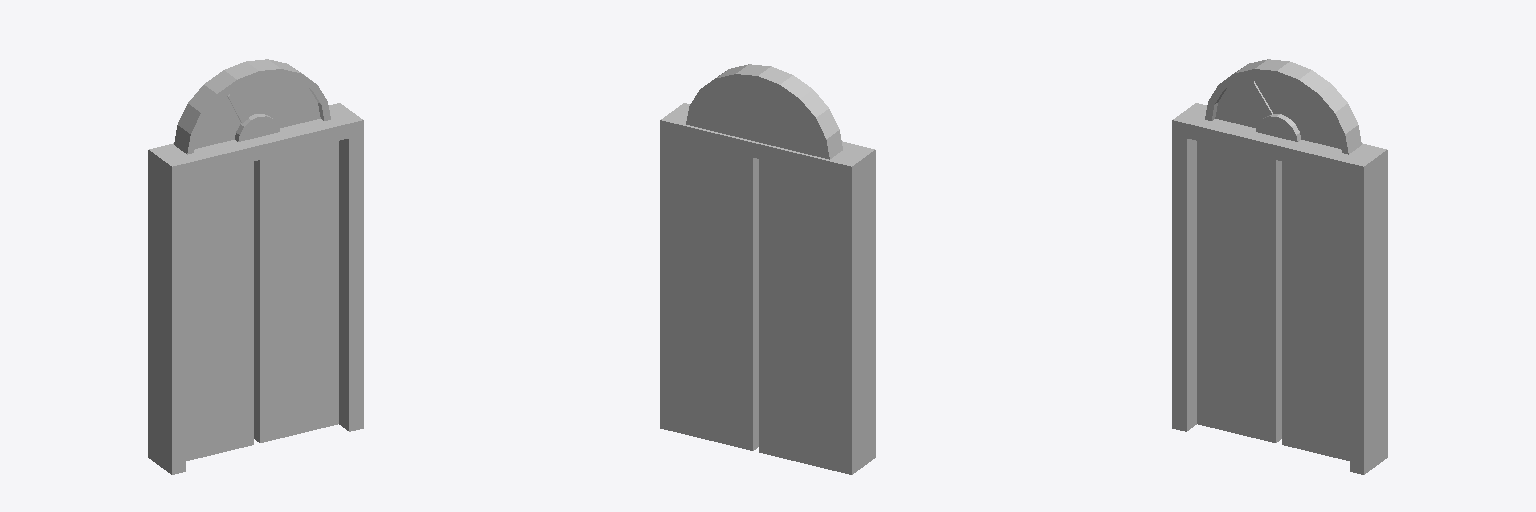
File: doorElevator.obj
3 renders of one model, left to right at view 1: azimuth 30°, elevation 25°; view 2: azimuth 150°, elevation 25°; view 3: azimuth 330°, elevation 25°, orthographic.
Visible parts, largest first — view 1: elevatorDoor pCube2, elevatorDoor polySurface7, polySurface1 elevatorDoor; view 2: elevatorDoor pCube2, elevatorDoor polySurface7, polySurface1 elevatorDoor; view 3: elevatorDoor pCube2, polySurface1 elevatorDoor, elevatorDoor polySurface7.
Boxes of the visible parts, x1,y1,x2,y2 form: elevatorDoor pCube2: [148, 59, 363, 474]; elevatorDoor polySurface7: [254, 141, 338, 442]; polySurface1 elevatorDoor: [186, 162, 253, 460]; elevatorDoor pCube2: [660, 64, 875, 474]; elevatorDoor polySurface7: [675, 139, 758, 450]; polySurface1 elevatorDoor: [759, 159, 837, 471]; elevatorDoor pCube2: [1172, 59, 1387, 474]; polySurface1 elevatorDoor: [1197, 141, 1281, 442]; elevatorDoor polySurface7: [1282, 162, 1349, 460].
Size of the model in its own units: 1.57 by 2.93 by 0.334.